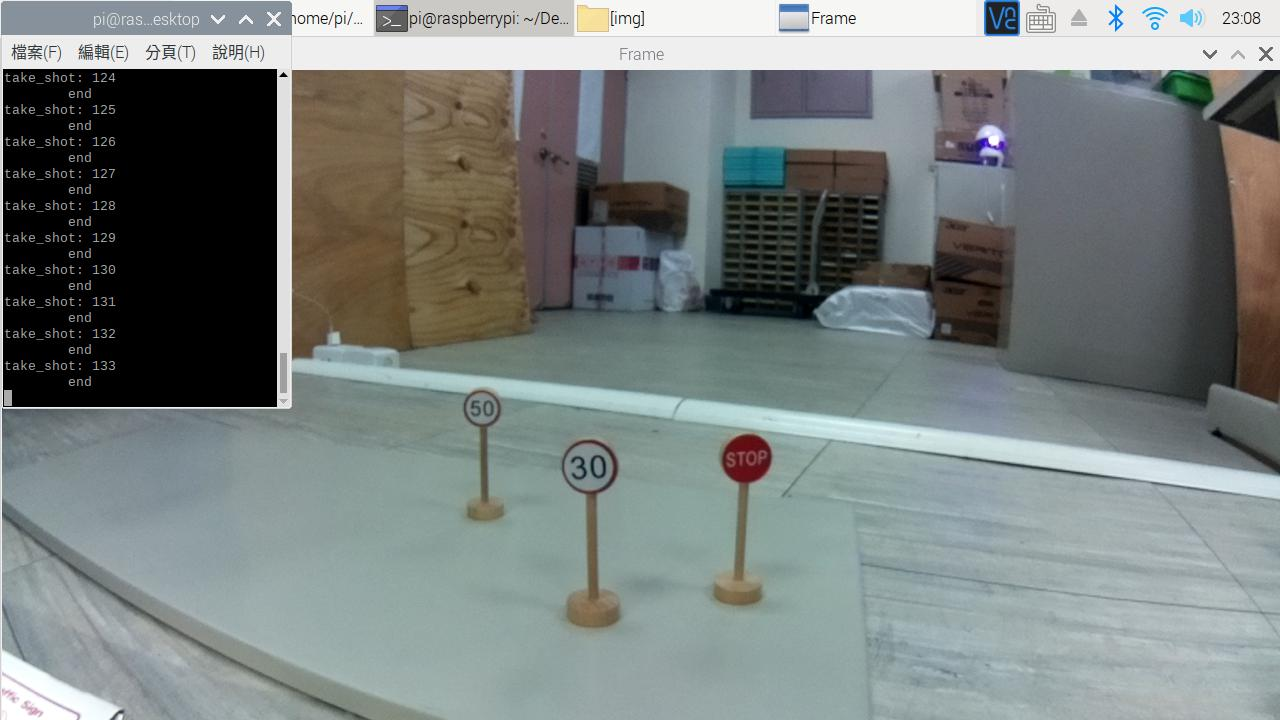Speed30: (550, 436, 624, 501)
Speed50: (446, 386, 511, 449)
Stop: (718, 430, 794, 499)
